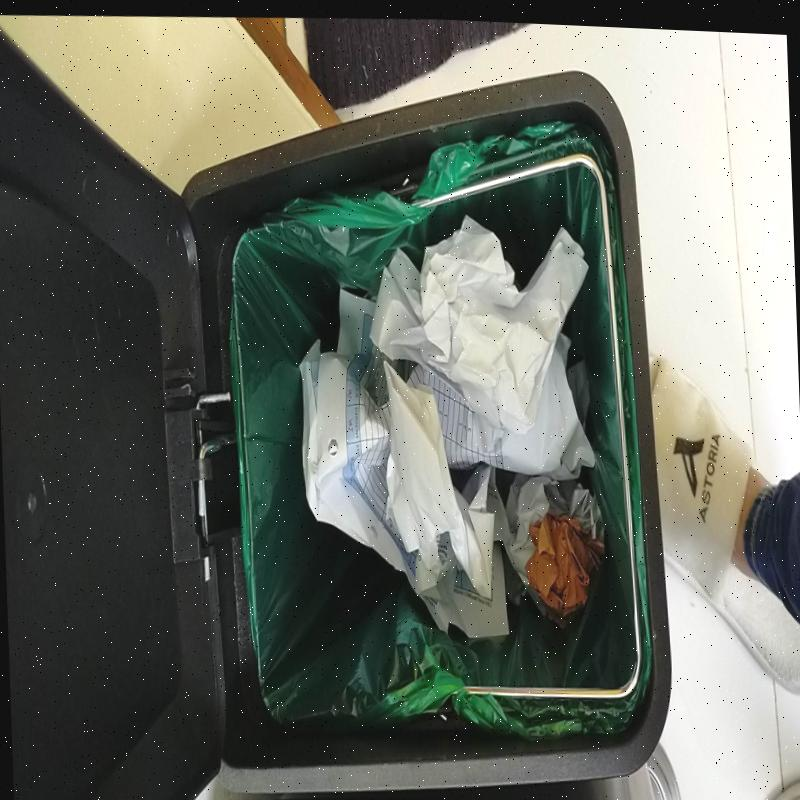paper: (301, 286, 605, 637), (370, 213, 589, 433), (384, 359, 495, 599), (525, 508, 604, 627)
